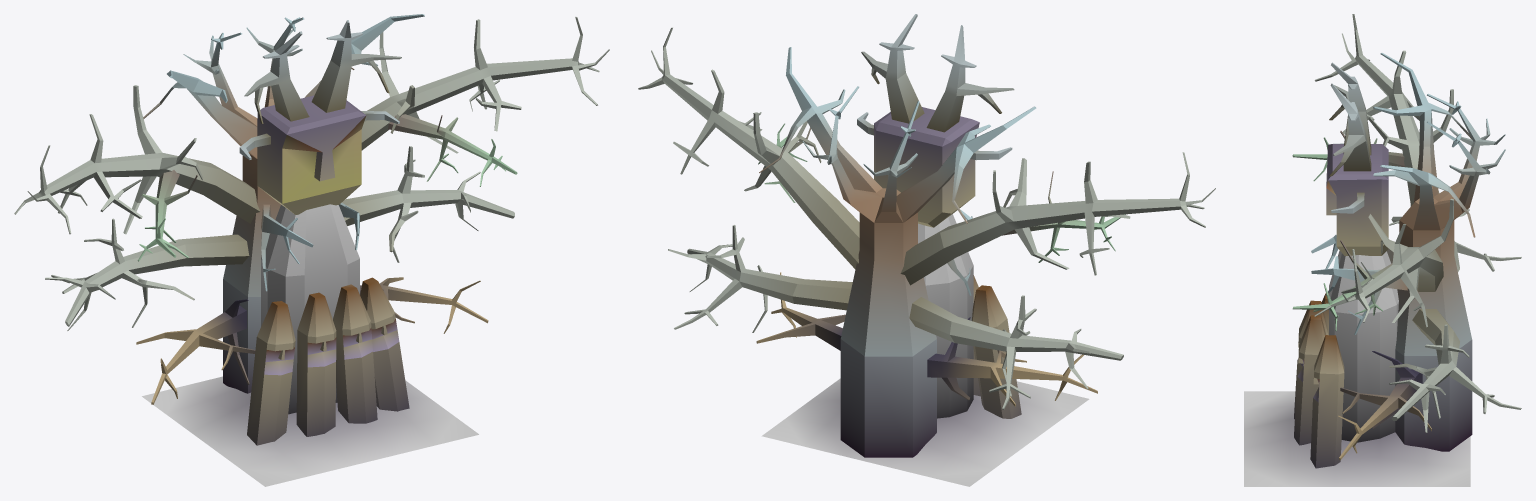
File: lesnichV3.fbx
The picture shows the model from 3 angles, left to right: view 1: azimuth 30°, elevation 25°; view 2: azimuth 150°, elevation 25°; view 3: azimuth 270°, elevation 25°; orthographic projection. The views are drawn at different scales.
Parts seen in each view (by area): view 1: Leshii; view 2: Leshii; view 3: Leshii.
Boxes of the visible parts, box(x1,y1,x2,y2) form: Leshii: box(14, 14, 609, 486); Leshii: box(638, 14, 1215, 486); Leshii: box(1244, 14, 1521, 486).
Size of the model in its own units: 1364 by 893 by 613.
